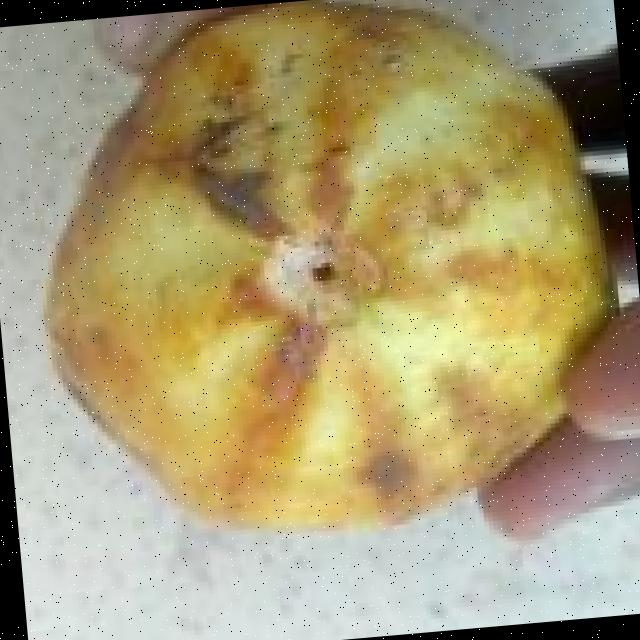Bad_Guava 0 day: (49, 0, 611, 529)
